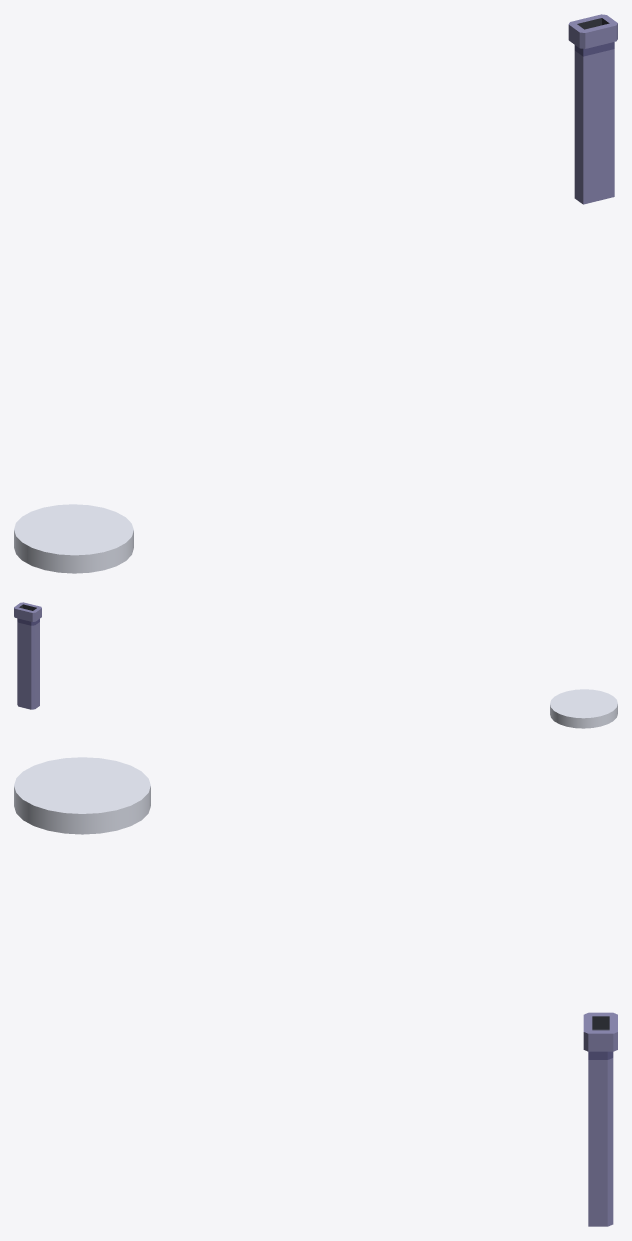
Rendered from Stone.fbx.
3 views of the same model, one above another, from view 1: azimuth 30°, elevation 25°; view 2: azimuth 150°, elevation 25°; view 3: azimuth 270°, elevation 25° (orthographic). The views are drawn at different scales.
Parts seen in each view (by area): view 1: mergedBlocks; view 2: mergedBlocks; view 3: mergedBlocks.
Part boxes in pixels (bbox=[...]): mergedBlocks: bbox=[14, 14, 617, 573]; mergedBlocks: bbox=[14, 602, 617, 728]; mergedBlocks: bbox=[14, 757, 617, 1226].
Size of the model in its own units: 94.28 by 19 by 53.37.
